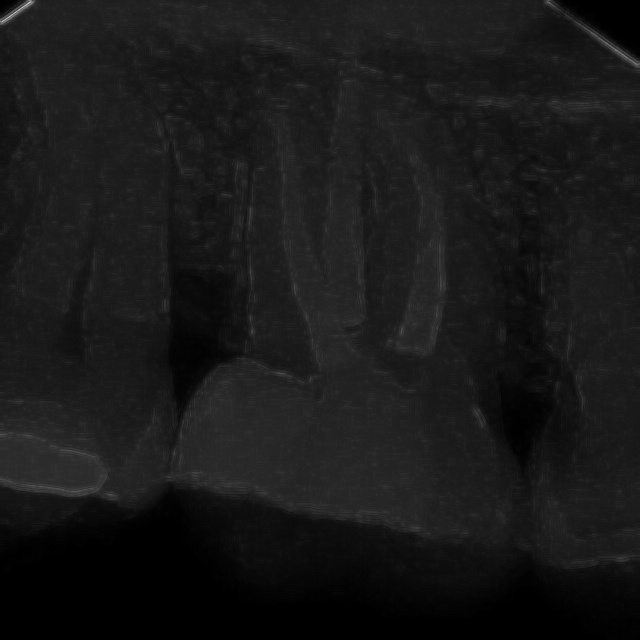Class 0- No endodontic treatment: (174, 17, 554, 583)
